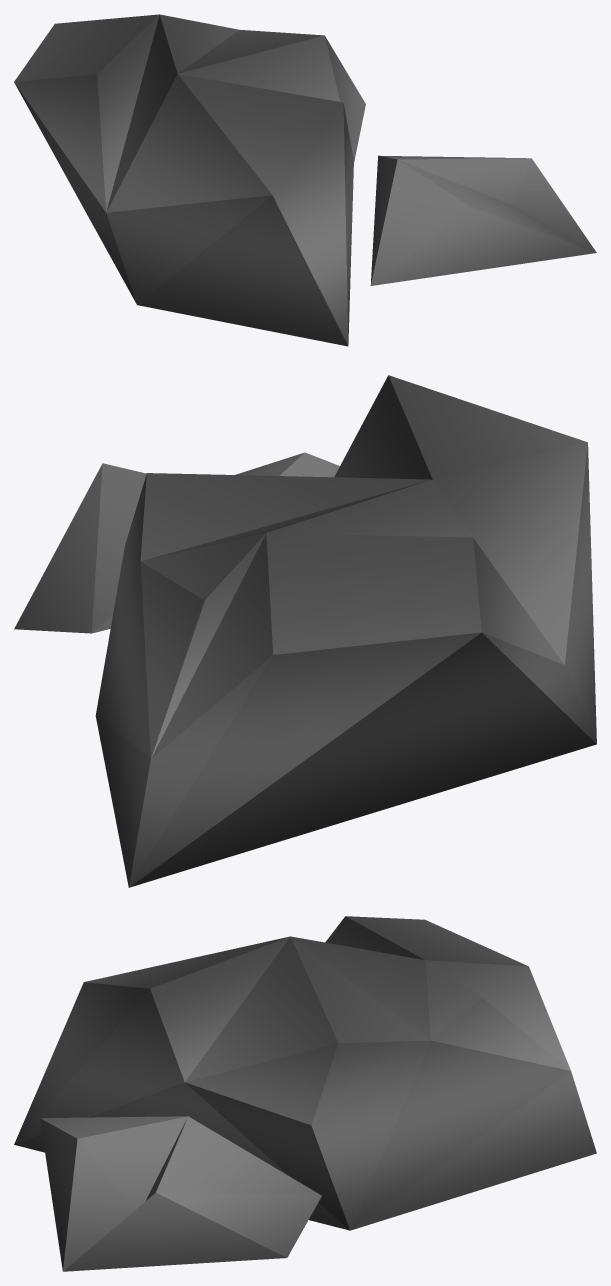
Rendered from Mined_Rock.fbx.
3 renders of one model, top to bottom at view 1: azimuth 30°, elevation 25°; view 2: azimuth 150°, elevation 25°; view 3: azimuth 270°, elevation 25°, orthographic. The views are drawn at different scales.
Parts seen in each view (by area): view 1: Stone1.002; view 2: Stone1.002; view 3: Stone1.002.
Boxes of the visible parts, box(x1,y1,x2,y2) form: Stone1.002: box(14, 14, 596, 346); Stone1.002: box(14, 375, 596, 887); Stone1.002: box(14, 916, 596, 1271).
Bounding box in the file's own units: 61.15 × 26.9 × 73.34.
